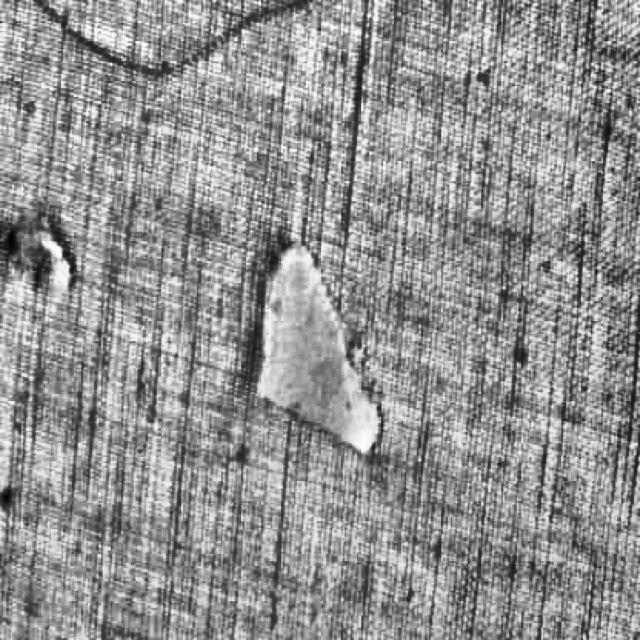objects: (241, 227, 395, 472), (0, 198, 87, 314)
thread_error: (22, 0, 300, 88)
